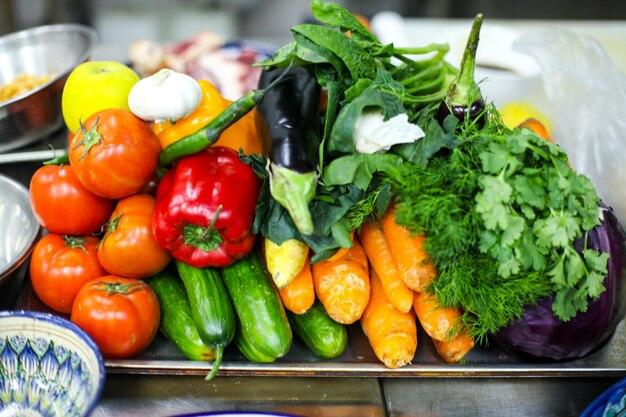bell pepper: (153, 142, 261, 276)
carrot: (311, 239, 492, 370)
coriander: (424, 138, 626, 278)
tomato: (33, 109, 176, 354)
